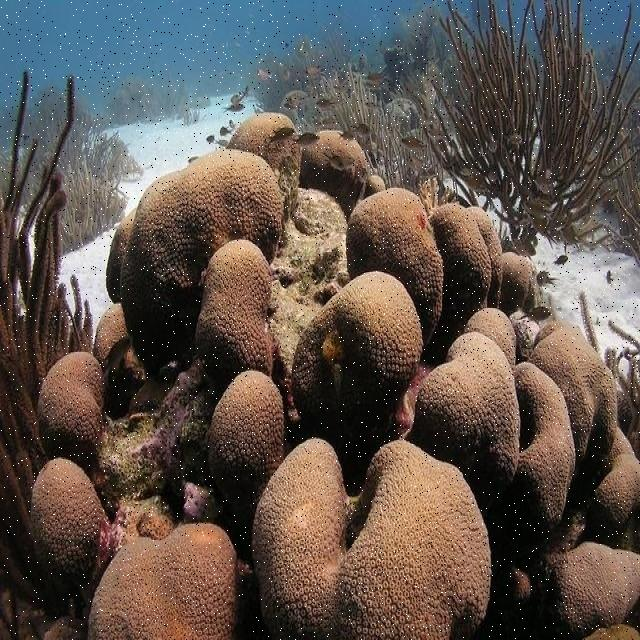aquatic plants: (424, 0, 639, 260), (0, 70, 94, 617)
reefs: (246, 441, 493, 639), (121, 148, 282, 369), (291, 272, 422, 441), (407, 334, 517, 507), (89, 525, 237, 639), (427, 204, 531, 366), (346, 187, 444, 350), (223, 117, 373, 213), (532, 322, 618, 466), (192, 239, 273, 380), (211, 373, 284, 508), (514, 362, 572, 528), (34, 461, 106, 581), (550, 546, 639, 639), (38, 354, 102, 476)
